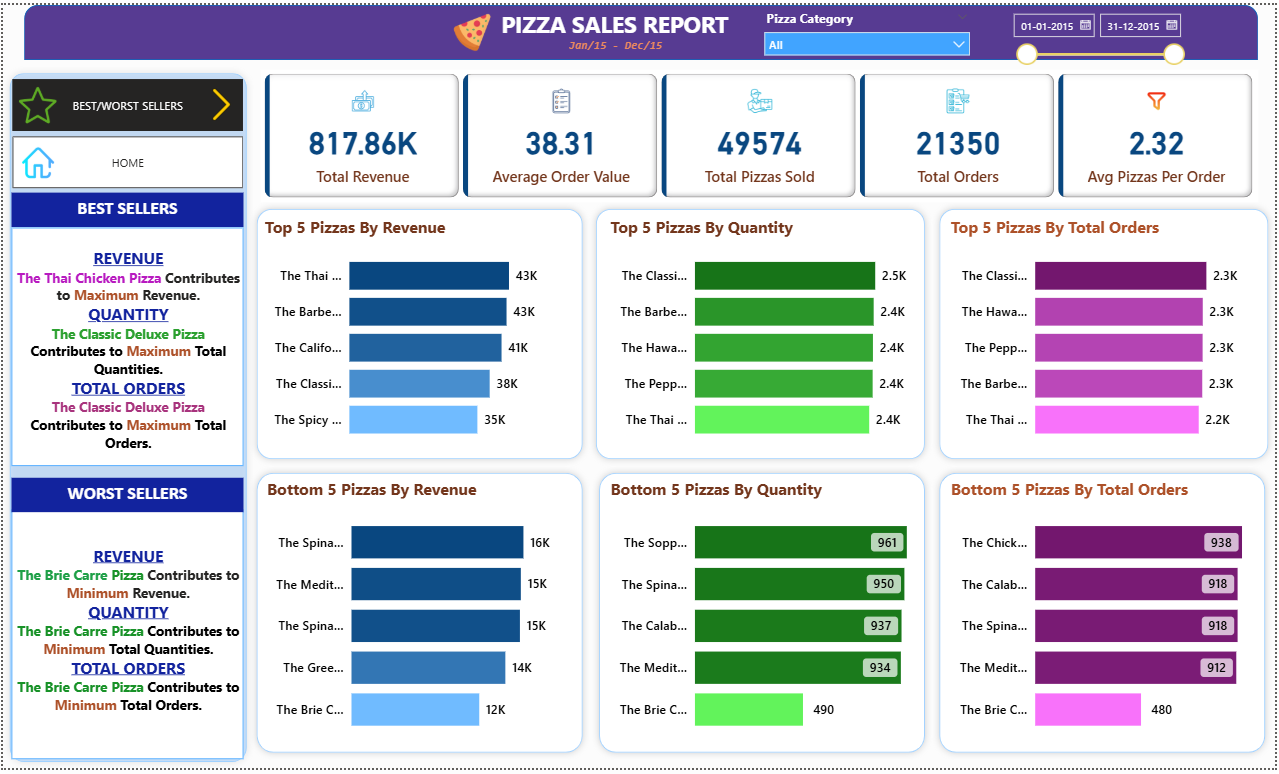

The dashboard page shown, as its layout file describes it:
{"tool":"powerbi","page":{"name":"BEST/WORST SELLERS","canvas":[1500,900],"ordinal":1},"visuals":[{"type":"cardVisual","fields":{"Data":["pizza_sales.Total Revenue","pizza_sales.Average Order Value","pizza_sales.Total Pizzas Sold","pizza_sales.Total Orders","pizza_sales.Avg Pizzas Per Order"]},"box":[303.8,76.2,1176.2,156.2],"z":0},{"type":"shape","box":[25,0,1455,65],"z":1000},{"type":"textbox","box":[582.5,0,333.8,55],"z":2000},{"type":"textbox","box":[661.2,32.5,122.5,32.5],"z":3000},{"type":"shape","box":[0,72.3,295.3,828.1],"z":4000},{"type":"image","box":[525,5,57.5,55],"z":5000},{"type":"shape","box":[291.7,232.6,400.2,311],"z":6000},{"type":"textbox","box":[9.6,221.8,273.6,41],"z":7000},{"type":"textbox","box":[10,262.5,273.8,281.2],"z":8000},{"type":"textbox","box":[9.6,595.5,273.6,294.1],"z":9000},{"type":"textbox","box":[9.6,556.9,273.6,41],"z":10000},{"type":"slicer","fields":{"Values":["pizza_sales.pizza_category"]},"box":[887.2,0,262.8,60.3],"z":11000},{"type":"slicer","fields":{"Values":["pizza_sales.order_date"]},"box":[1178.9,0,223,72.3],"z":12000},{"type":"shape","box":[690.7,232.6,403.8,311],"z":13000},{"type":"shape","box":[1095.7,232.6,403.8,311],"z":14000},{"type":"shape","box":[291.7,543.6,400.2,346],"z":15000},{"type":"shape","box":[695.5,543.6,400.2,346],"z":16000},{"type":"shape","box":[1095.7,543.6,400.2,346],"z":17000},{"type":"barChart","title":"Top 5 Pizzas By Revenue","fields":{"Category":["pizza_sales.pizza_name"],"Y":["pizza_sales.Total Revenue"]},"box":[303.8,248.8,370,280],"z":18000},{"type":"barChart","title":"Bottom 5 Pizzas By Revenue","fields":{"Category":["pizza_sales.pizza_name"],"Y":["pizza_sales.Total Revenue"]},"box":[306.2,557.5,370,318.8],"z":19000},{"type":"barChart","title":"Top 5 Pizzas By Quantity","fields":{"Category":["pizza_sales.pizza_name"],"Y":["pizza_sales.Total Pizzas Sold"]},"box":[711.2,248.8,370,280],"z":20000},{"type":"barChart","title":"Top 5 Pizzas By Total Orders","fields":{"Category":["pizza_sales.pizza_name"],"Y":["pizza_sales.Total Orders"]},"box":[1112.5,248.8,370,280],"z":21000},{"type":"barChart","title":"Bottom 5 Pizzas By Quantity","fields":{"Category":["pizza_sales.pizza_name"],"Y":["pizza_sales.Total Pizzas Sold"]},"box":[711.2,557.5,370,318.8],"z":22000},{"type":"barChart","title":"Bottom 5 Pizzas By Total Orders","fields":{"Category":["pizza_sales.pizza_name"],"Y":["pizza_sales.Total Orders"]},"box":[1112.5,557.5,370,318.8],"z":23000},{"type":"pageNavigator","box":[11.2,87.5,272.5,61.2],"z":24000},{"type":"pageNavigator","box":[11.2,155,272.5,61.2],"z":25000},{"type":"image","box":[231.2,93.8,52.5,47.5],"z":26000},{"type":"image","box":[15,162.5,52.5,47.5],"z":27000},{"type":"image","box":[11.2,91.2,60,53.8],"z":28000}]}

Visuals, with their boxes in screenshot pixels (x1, y1, x2, y2), scaled from the page's 1500x900 canvas onto the 1279x774 screenshot:
cardVisual - pizza_sales.Total Revenue x pizza_sales.Average Order Value: 259:66:1262:200
shape: 21:0:1262:56
textbox: 497:0:781:47
textbox: 564:28:668:56
shape: 0:62:252:773
image: 448:4:497:52
shape: 249:200:590:467
textbox: 8:191:241:226
textbox: 9:226:242:468
textbox: 8:512:241:765
textbox: 8:479:241:514
slicer - pizza_sales.pizza_category: 756:0:981:52
slicer - pizza_sales.order_date: 1005:0:1195:62
shape: 589:200:933:467
shape: 934:200:1278:467
shape: 249:467:590:765
shape: 593:467:934:765
shape: 934:467:1276:765
"Top 5 Pizzas By Revenue" barChart: 259:214:575:455
"Bottom 5 Pizzas By Revenue" barChart: 261:479:577:754
"Top 5 Pizzas By Quantity" barChart: 606:214:922:455
"Top 5 Pizzas By Total Orders" barChart: 949:214:1264:455
"Bottom 5 Pizzas By Quantity" barChart: 606:479:922:754
"Bottom 5 Pizzas By Total Orders" barChart: 949:479:1264:754
pageNavigator: 10:75:242:128
pageNavigator: 10:133:242:186
image: 197:81:242:122
image: 13:140:58:181
image: 10:78:61:125
